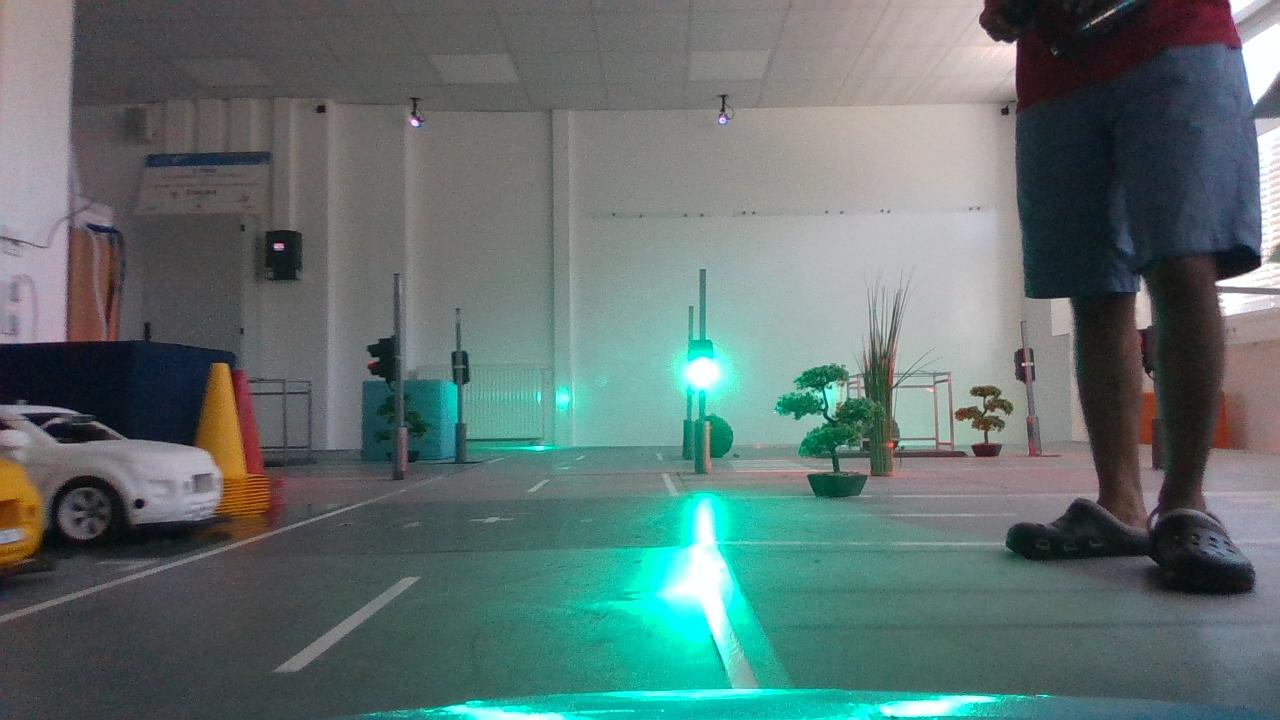traffic_light_green: (677, 332, 730, 404)
